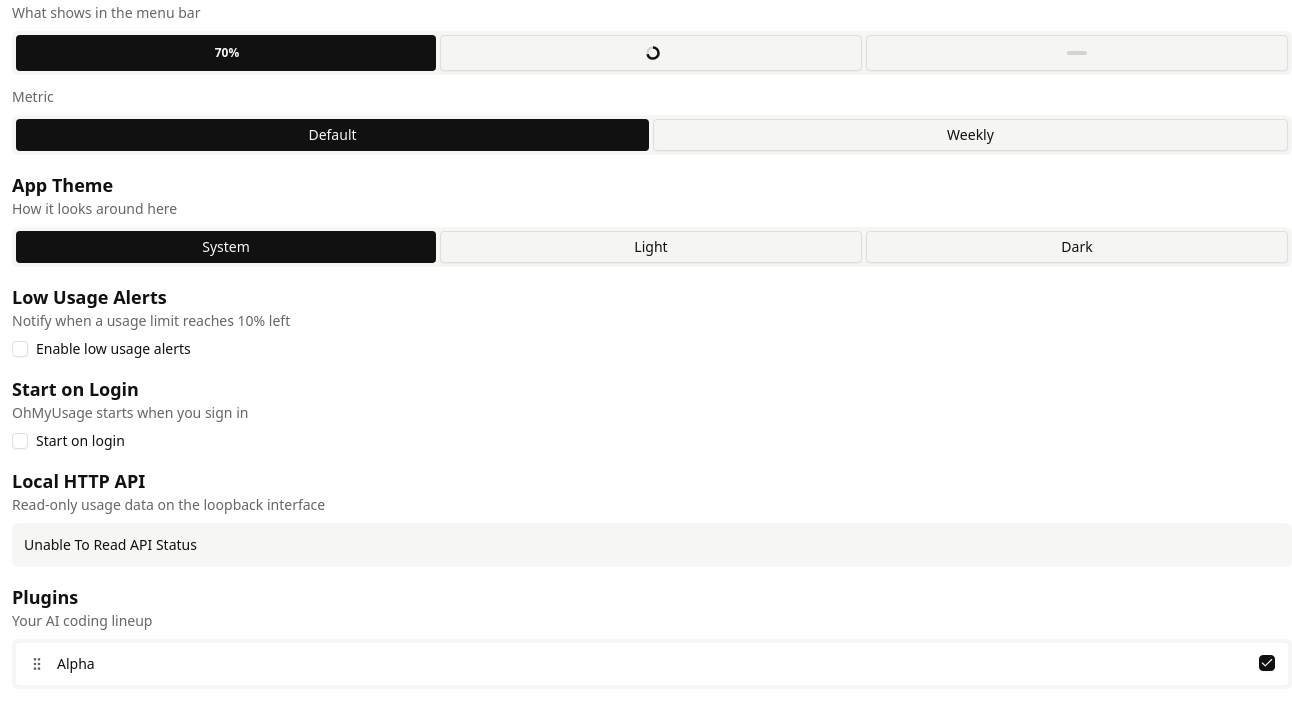
Scenario: SettingsPage › shows a friendly message when notification permission is denied
(page scrolled)
What coordinates should you click on to do the following:
click the text "Enable low usage alerts"
I would click on:
 (101, 348)
Its box is [12,339,191,358].
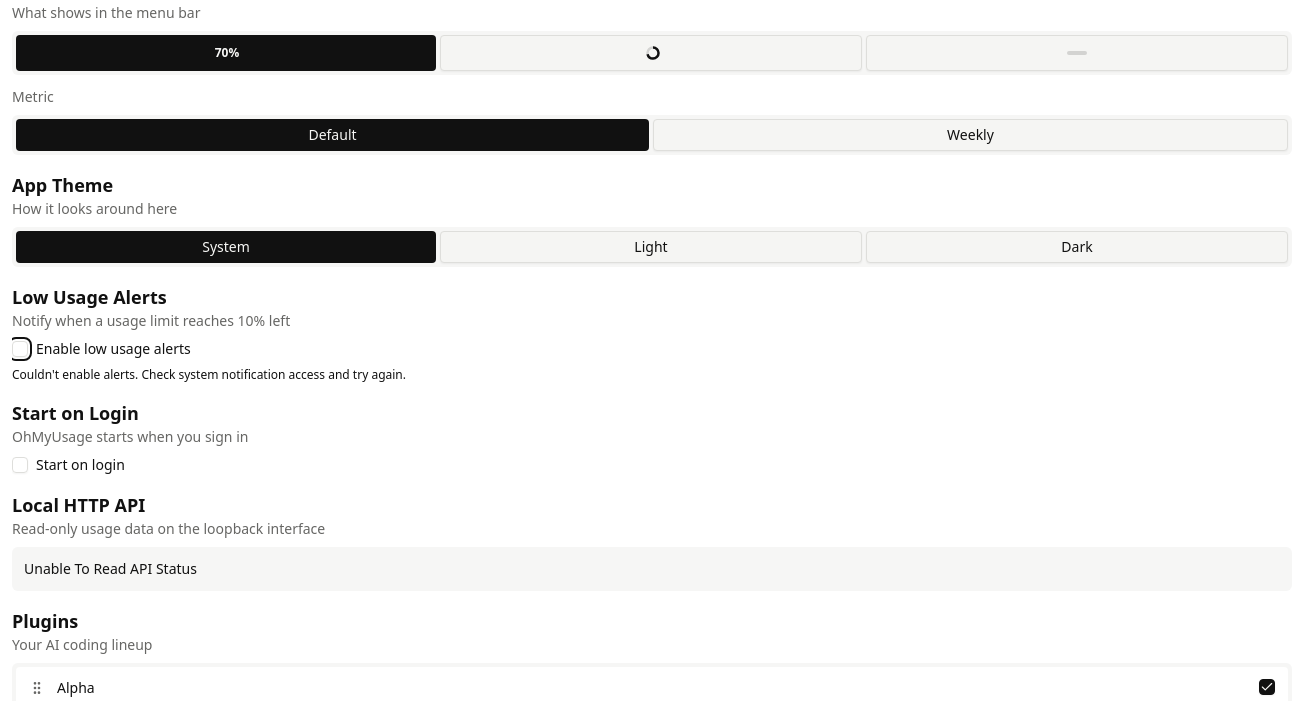
Expected: the message shows "Couldn't enable alerts", [12,366,406,383]
